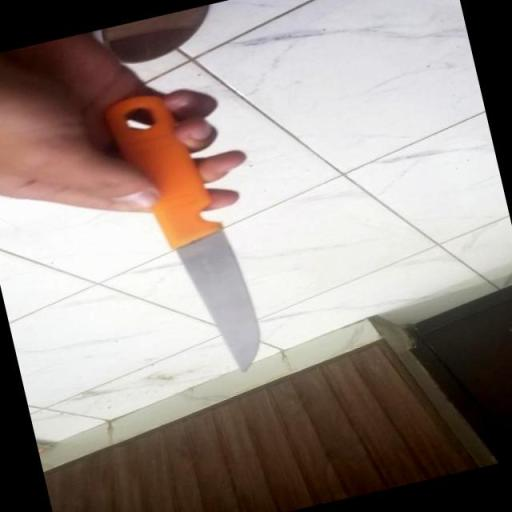knife: (92, 80, 270, 391)
